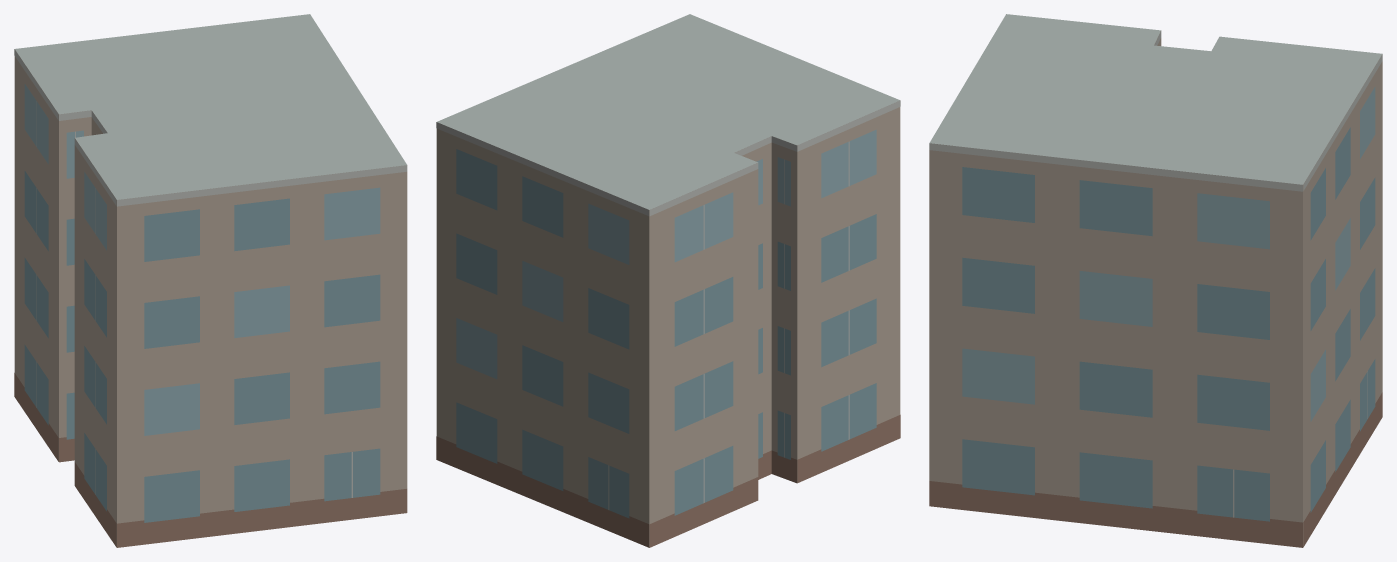
The model's file is survey-upis-32806387.glb.
3 views of the same model, side by side, from view 1: azimuth 30°, elevation 25°; view 2: azimuth 150°, elevation 25°; view 3: azimuth 270°, elevation 25° (orthographic). The views are drawn at different scales.
Visible parts, largest first — view 1: survey-upis-32806387.tmp; view 2: survey-upis-32806387.tmp; view 3: survey-upis-32806387.tmp.
Boxes of the visible parts, left/top/right/bottom form: survey-upis-32806387.tmp: left=14, top=14, right=407, bottom=547; survey-upis-32806387.tmp: left=436, top=14, right=900, bottom=547; survey-upis-32806387.tmp: left=929, top=14, right=1382, bottom=547.
Bounding box in the file's own units: 12.93 × 12.8 × 14.5.
